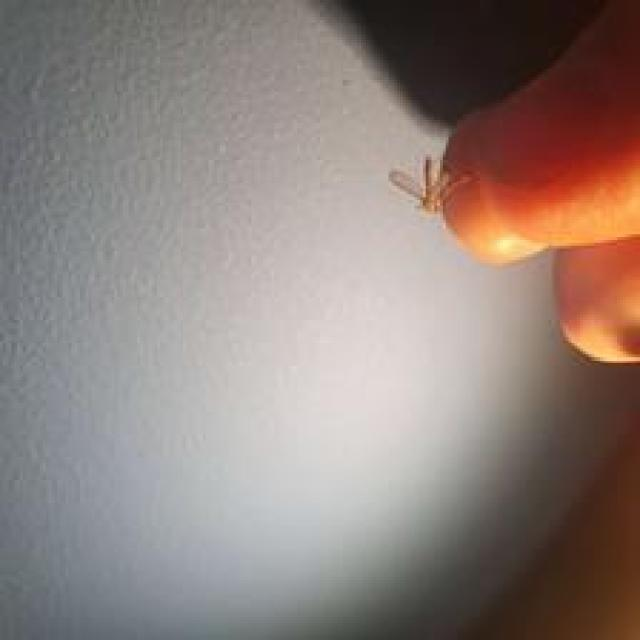Culex: (388, 0, 640, 365)
